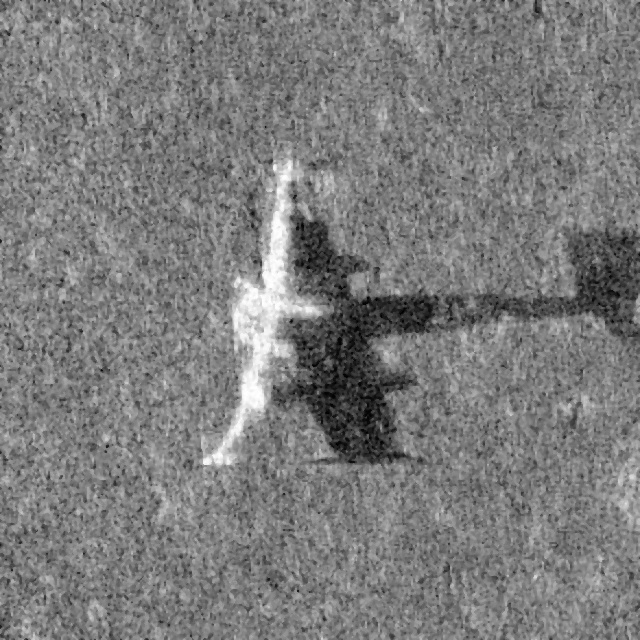Plane: (191, 147, 341, 477)
